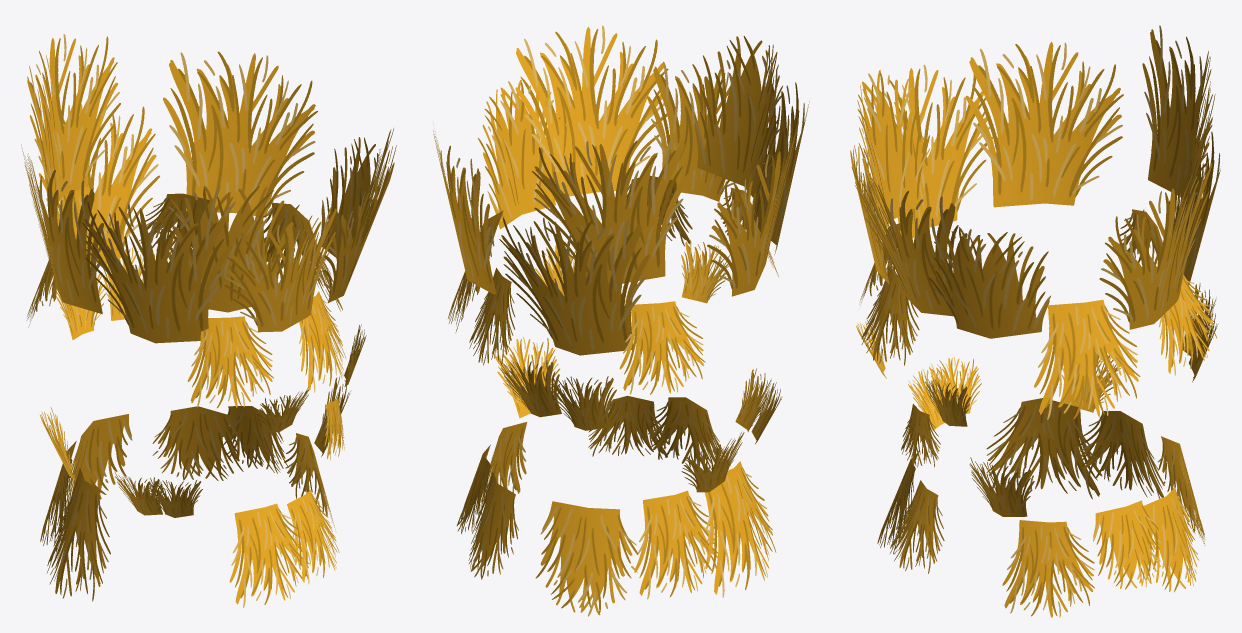
File: Pajar cilindrico planos.fbx
The picture shows the model from 3 angles, left to right: view 1: azimuth 30°, elevation 25°; view 2: azimuth 150°, elevation 25°; view 3: azimuth 270°, elevation 25°; orthographic projection.
Parts seen in each view (by area): view 1: Paja_1_7, Paja_1_3, Paja_1_9, Paja_1_4, Paja_2_2, Paja_1_2, Paja_1_8, Paja_1_15, Paja_1_10, Paja_2_5, Paja_1_17, Paja_1_5 (+18 smaller); view 2: Paja_1_5, Paja_1_8, Paja_1_9, Paja_2_2, Paja_2_6, Paja_2_3, Paja_1_2, Paja_1_17, Paja_1_18, Paja_1_4, Paja_1_13, Paja_1_7 (+16 smaller); view 3: Paja_1_2, Paja_2_3, Paja_1_7, Paja_1_9, Paja_1_12, Paja_1_3, Paja_1_5, Paja_2_2, Paja_1_17, Paja_1_16, Paja_2_4, Paja_1_18 (+17 smaller).
Boxes of the visible parts, bbox=[...] form: Paja_1_7: bbox=[163, 51, 317, 217]; Paja_1_3: bbox=[82, 201, 232, 343]; Paja_1_9: bbox=[27, 34, 120, 202]; Paja_1_4: bbox=[224, 206, 336, 332]; Paja_2_2: bbox=[156, 186, 299, 312]; Paja_1_2: bbox=[21, 144, 103, 314]; Paja_1_8: bbox=[36, 104, 159, 265]; Paja_1_15: bbox=[229, 503, 309, 607]; Paja_1_10: bbox=[187, 316, 273, 408]; Paja_2_5: bbox=[152, 406, 243, 480]; Paja_1_17: bbox=[46, 468, 110, 601]; Paja_1_5: bbox=[323, 128, 396, 302]; Paja_1_5: bbox=[515, 25, 668, 199]; Paja_1_8: bbox=[499, 217, 650, 355]; Paja_1_9: bbox=[532, 136, 689, 283]; Paja_2_2: bbox=[694, 36, 782, 201]; Paja_2_6: bbox=[535, 501, 638, 616]; Paja_2_3: bbox=[478, 80, 567, 229]; Paja_1_2: bbox=[707, 120, 798, 296]; Paja_1_17: bbox=[704, 461, 776, 597]; Paja_1_18: bbox=[634, 490, 717, 599]; Paja_1_4: bbox=[647, 61, 735, 201]; Paja_1_13: bbox=[619, 301, 705, 394]; Paja_1_7: bbox=[433, 130, 496, 294]; Paja_1_2: bbox=[965, 41, 1123, 207]; Paja_2_3: bbox=[929, 227, 1050, 338]; Paja_1_7: bbox=[1099, 159, 1212, 329]; Paja_1_9: bbox=[1142, 25, 1215, 205]; Paja_1_12: bbox=[1034, 299, 1140, 419]; Paja_1_3: bbox=[867, 64, 992, 238]; Paja_1_5: bbox=[851, 167, 967, 316]; Paja_2_2: bbox=[857, 70, 930, 240]; Paja_1_17: bbox=[986, 398, 1102, 499]; Paja_1_16: bbox=[1002, 520, 1094, 617]; Paja_2_4: bbox=[1093, 500, 1161, 589]; Paja_1_18: bbox=[1077, 411, 1164, 498].
Bounding box in the file's own units: 25.56 × 36.81 × 26.32.
